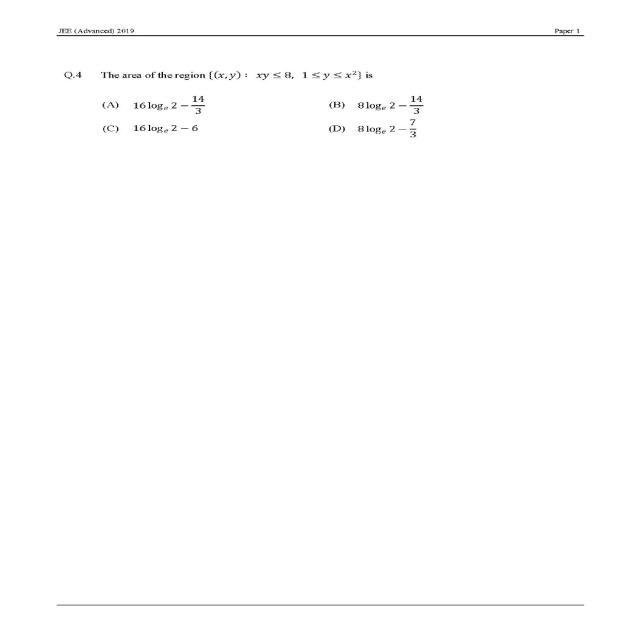Answer_Block: (35, 87, 605, 165)
Question_Answer_Block: (35, 48, 605, 165)
Question_Block: (35, 48, 605, 88)
Question_Paper_Area: (35, 48, 605, 366)
